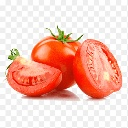tomato: (31, 33, 89, 90), (73, 37, 123, 99), (7, 56, 62, 96)
